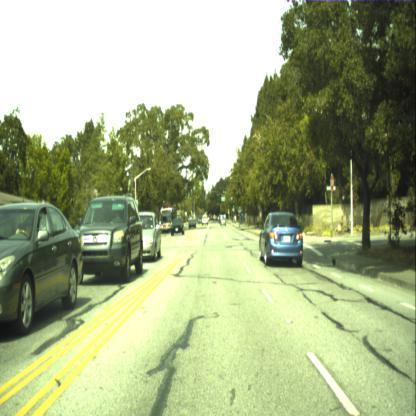Green: (232, 204, 234, 208), (217, 190, 218, 196)
